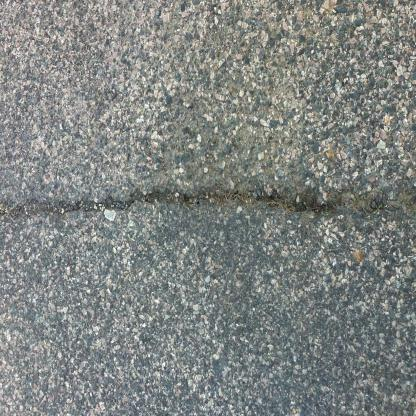Cracks: (0, 183, 416, 224)
